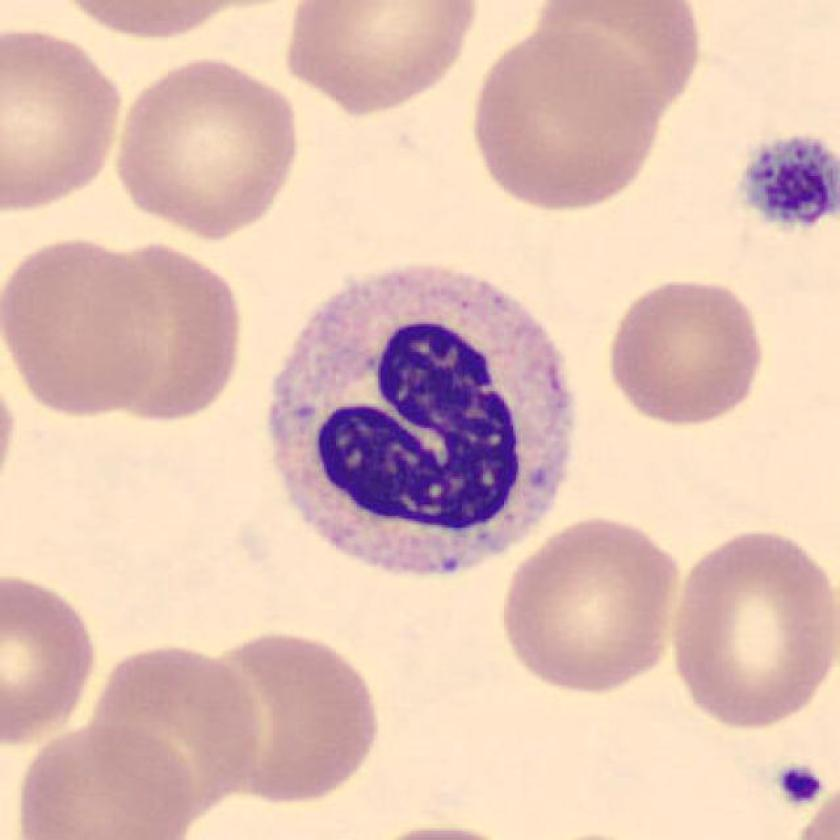neutrophil: (266, 267, 571, 572)
